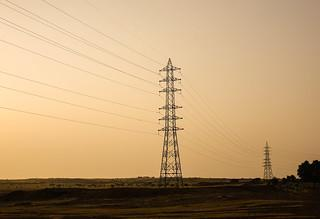power_tower: (153, 56, 195, 195), (258, 138, 275, 187)
